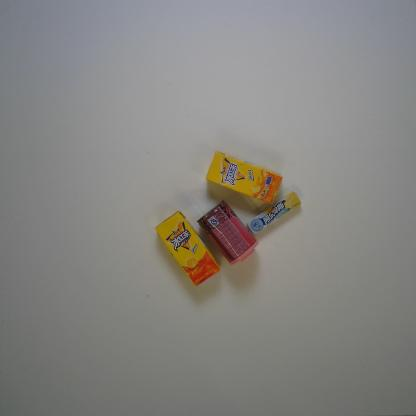Candy: (246, 191, 302, 235)
Canned Food: (196, 199, 259, 265)
Drink: (154, 210, 220, 287), (206, 150, 283, 205)
